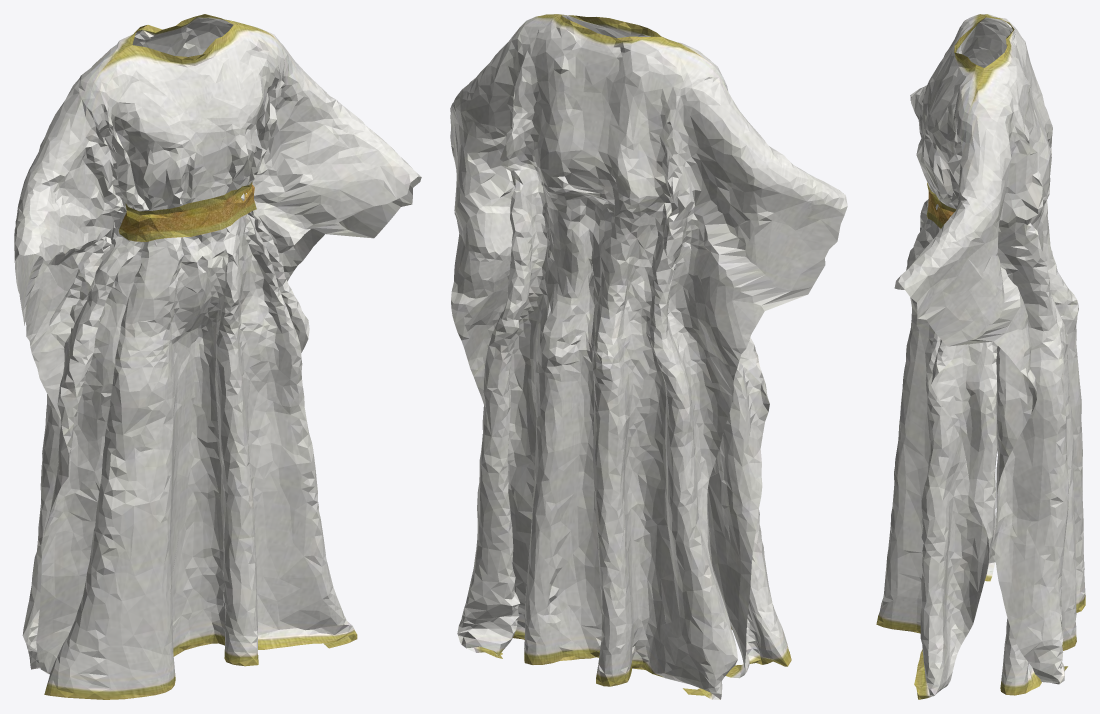
The model's file is mhw_elvs_goddess_dress6.glb.
3 views of the same model, side by side, from view 1: azimuth 30°, elevation 25°; view 2: azimuth 150°, elevation 25°; view 3: azimuth 270°, elevation 25° (orthographic). The views are drawn at different scales.
Visible parts, largest first — view 1: mhw_elvs_goddess_dress6; view 2: mhw_elvs_goddess_dress6; view 3: mhw_elvs_goddess_dress6.
Part boxes in pixels (x1=…): mhw_elvs_goddess_dress6: x1=14, y1=14, x2=421, y2=699; mhw_elvs_goddess_dress6: x1=450, y1=14, x2=847, y2=699; mhw_elvs_goddess_dress6: x1=876, y1=14, x2=1085, y2=699.
Bounding box in the file's own units: 1.06 × 1.58 × 0.4964.
1 material, 1 textured.
